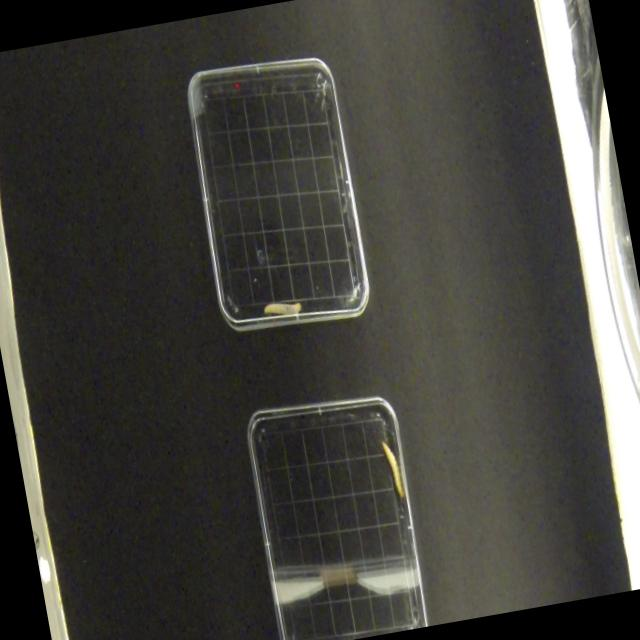larva: (380, 438, 405, 502), (260, 298, 304, 317)
